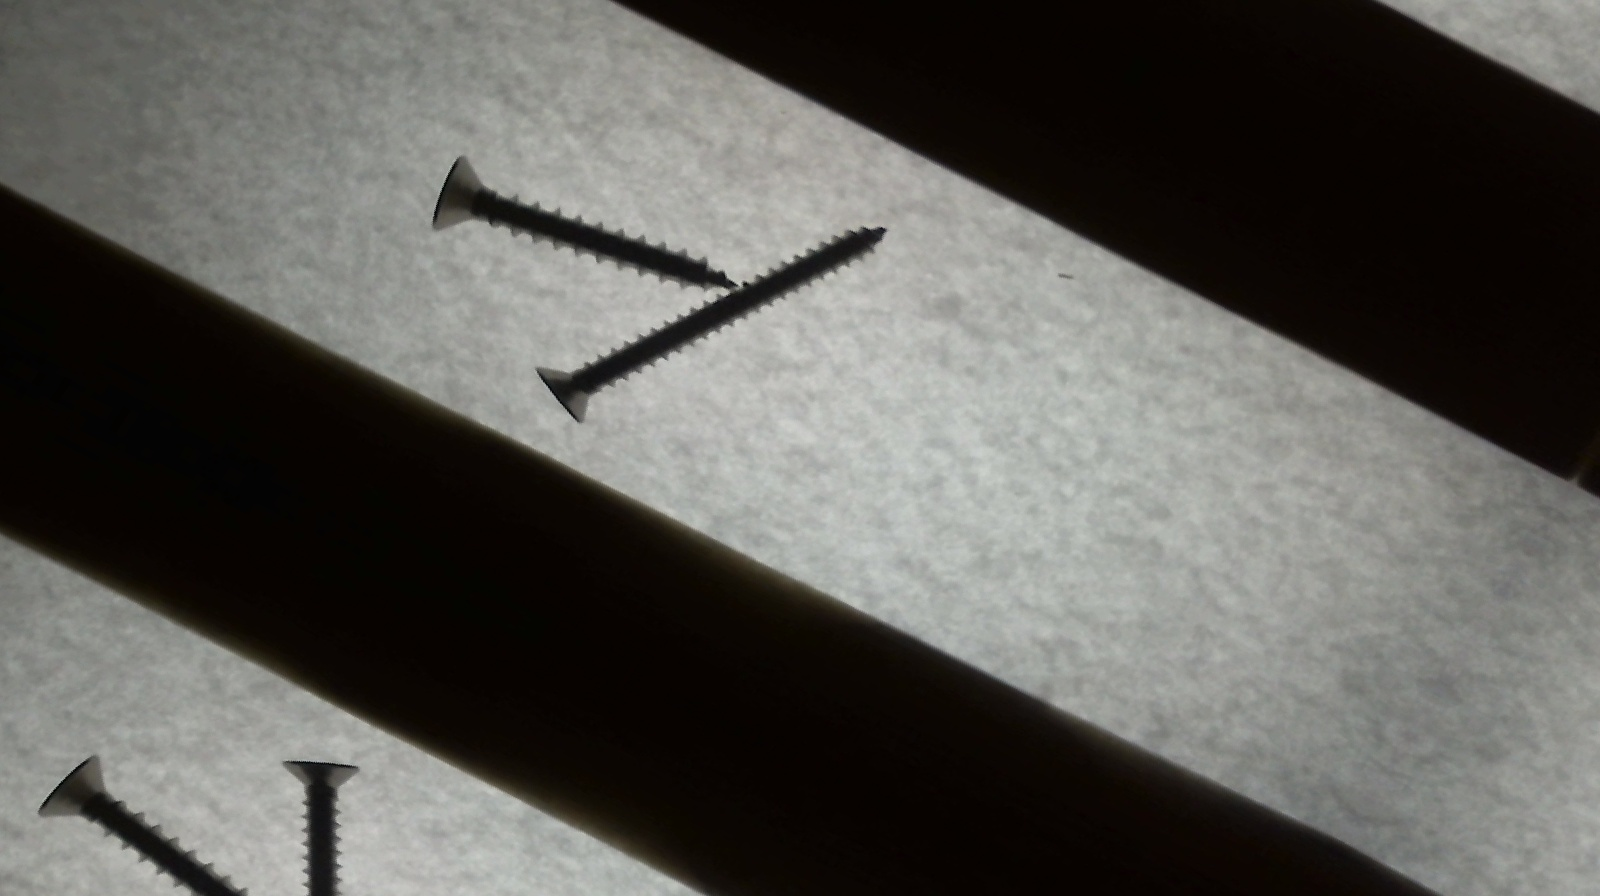S001: (403, 129, 759, 372)
S002: (511, 111, 916, 508)
